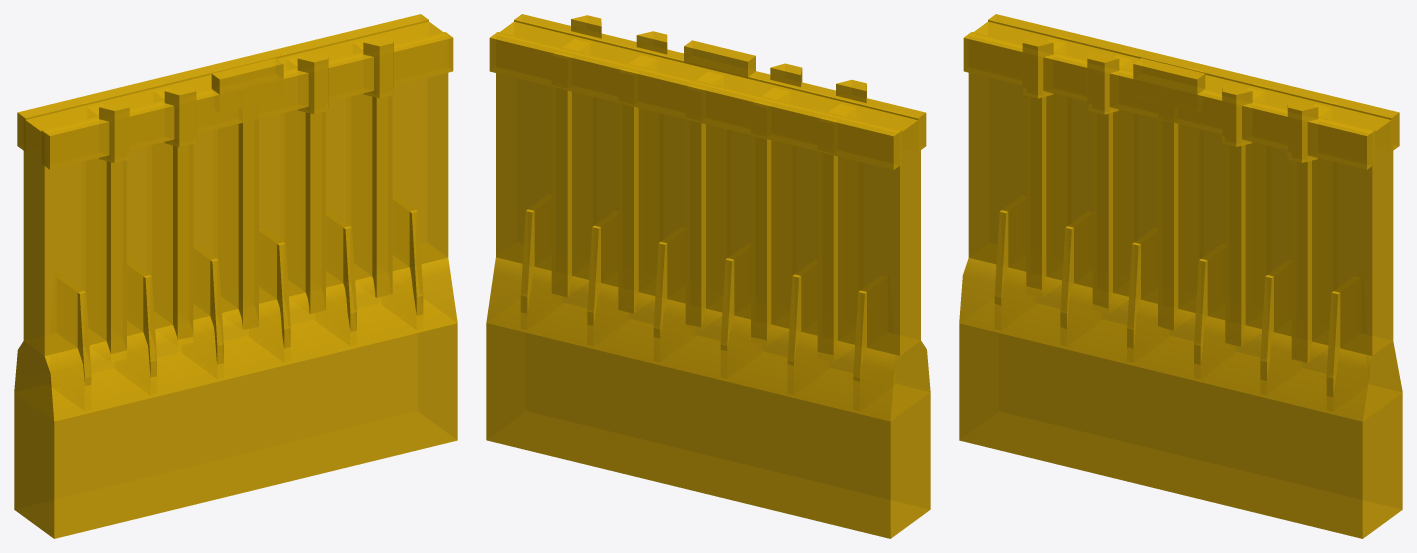
Rendered from SM_Bld_Gate_Fort_01_Collision.fbx.
3 views of the same model, side by side, from view 1: azimuth 30°, elevation 25°; view 2: azimuth 150°, elevation 25°; view 3: azimuth 330°, elevation 25° (orthographic).
Visible parts, largest first — view 1: SM_Bld_Gate_Fort_01_Collision; view 2: SM_Bld_Gate_Fort_01_Collision; view 3: SM_Bld_Gate_Fort_01_Collision.
Part boxes in pixels (bbox=[...]): SM_Bld_Gate_Fort_01_Collision: bbox=[14, 14, 457, 538]; SM_Bld_Gate_Fort_01_Collision: bbox=[486, 14, 930, 538]; SM_Bld_Gate_Fort_01_Collision: bbox=[959, 14, 1402, 538].
Size of the model in its own units: 3038 by 2984 by 522.
